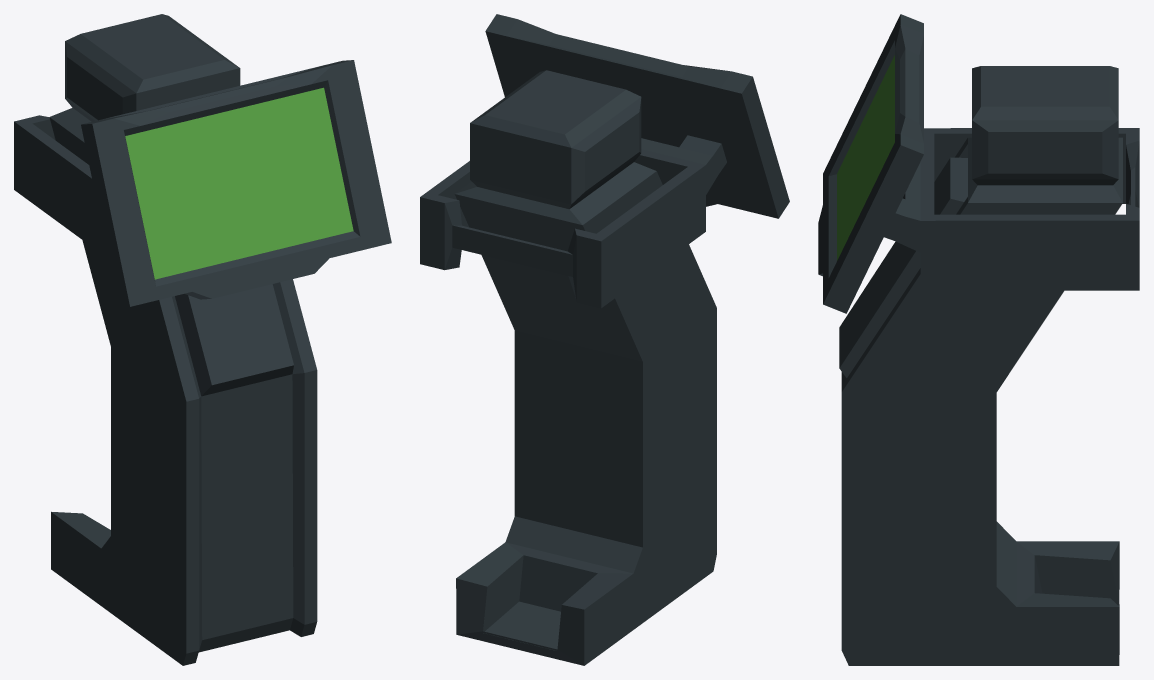
Rendered from Console2.fbx.
3 renders of one model, left to right at view 1: azimuth 30°, elevation 25°; view 2: azimuth 150°, elevation 25°; view 3: azimuth 270°, elevation 25°, orthographic. The views are drawn at different scales.
Visible parts, largest first — view 1: polySurface1, polySurface7; view 2: polySurface1; view 3: polySurface1, polySurface7.
Part boxes in pixels (<box>): polySurface1: <box>14,14,391,665</box>; polySurface7: <box>125,87,353,279</box>; polySurface1: <box>420,14,789,665</box>; polySurface1: <box>818,14,1139,665</box>; polySurface7: <box>837,55,894,260</box>.
Bounding box in the file's own units: 2 × 3.94 × 2.07.
